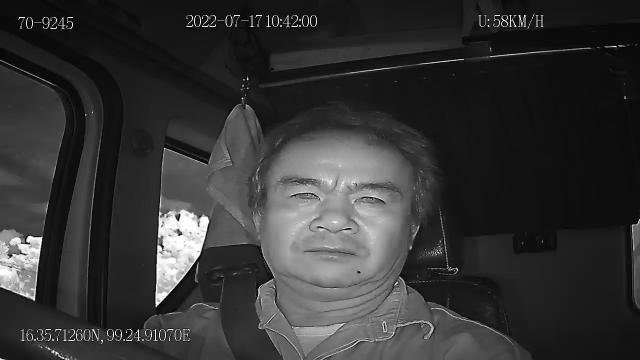SafeDriving: (347, 183, 398, 213), (279, 179, 326, 207)
Seatbelt: (219, 270, 285, 360)
